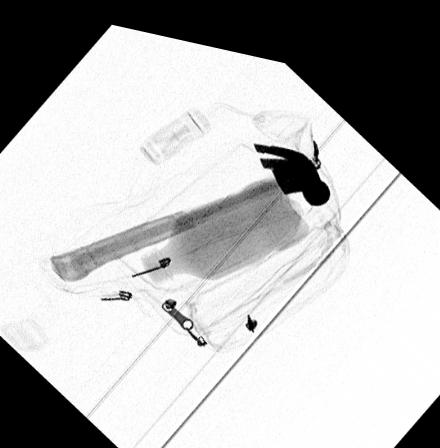Hammer: (49, 131, 331, 278)
